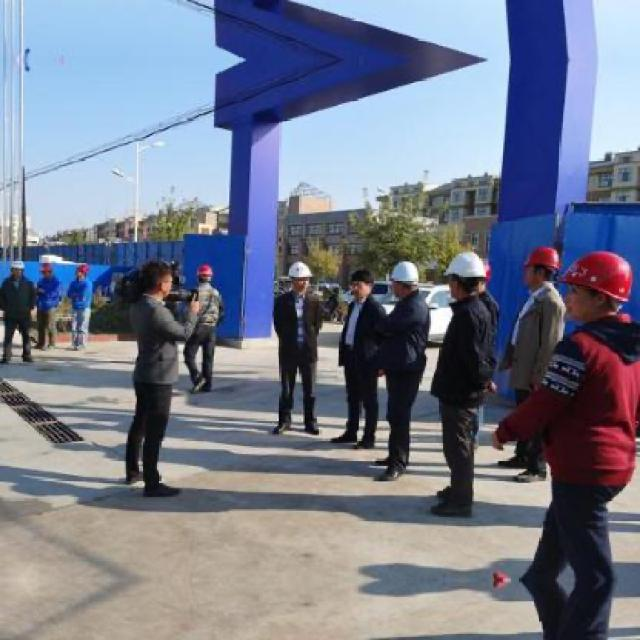con casco: (565, 237, 640, 383), (430, 198, 495, 334), (247, 245, 316, 328), (514, 228, 564, 304), (391, 232, 417, 322), (506, 297, 514, 297)
sin casco: (136, 257, 190, 341), (338, 260, 382, 318)
